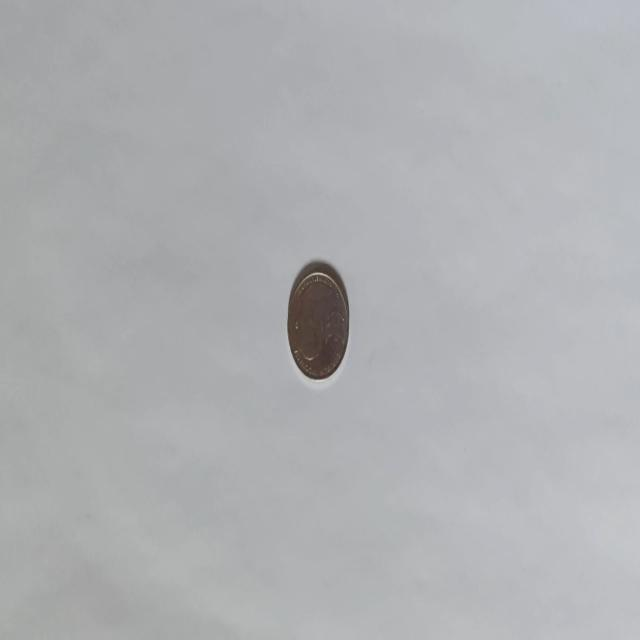seribu rupiah koin: (286, 263, 350, 382)
